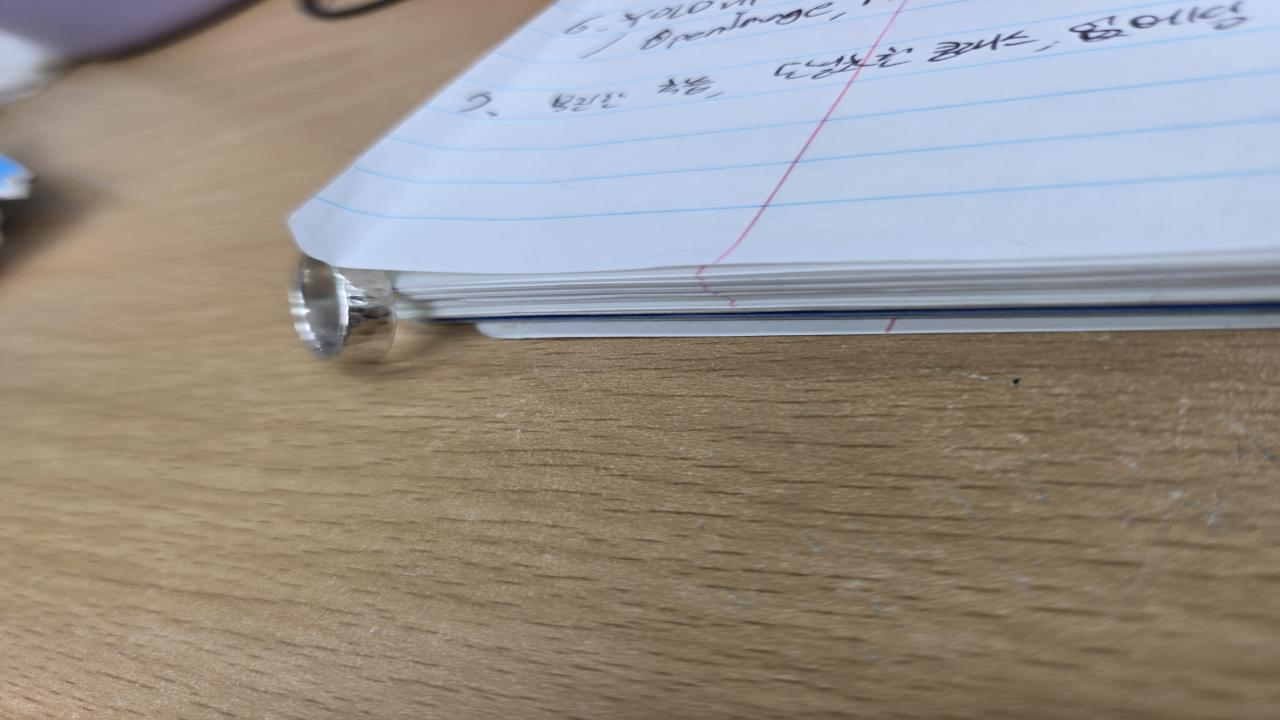ring: (292, 248, 402, 360)
